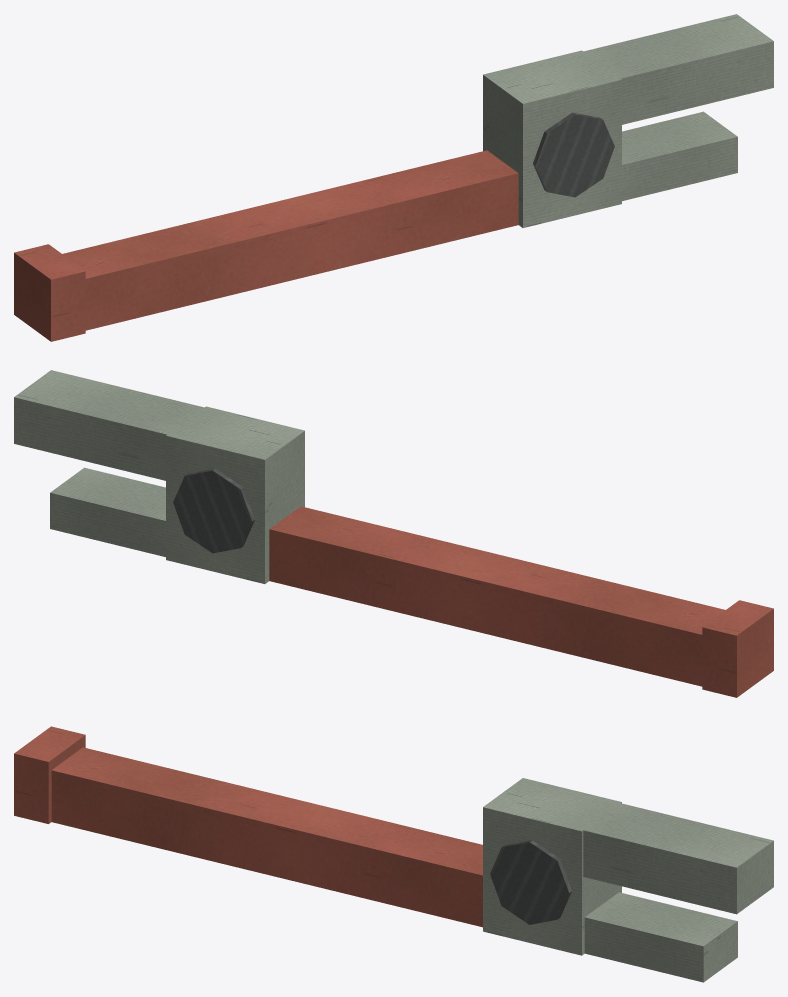
Rendered from wrench_v1.glb.
3 renders of one model, top to bottom at view 1: azimuth 30°, elevation 25°; view 2: azimuth 150°, elevation 25°; view 3: azimuth 330°, elevation 25°, orthographic.
Parts seen in each view (by area): view 1: Variant_wrench_1; view 2: Variant_wrench_1; view 3: Variant_wrench_1.
Part boxes in pixels (x1,y1,x2,y2): Variant_wrench_1: (14, 14, 773, 341); Variant_wrench_1: (14, 370, 773, 697); Variant_wrench_1: (14, 726, 773, 982).
Size of the model in its own units: 0.292 by 0.048 by 0.032.
Materials: 3 (3 with a texture image).
